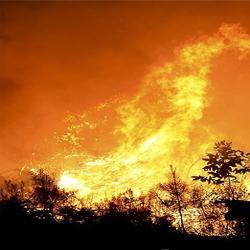fire: (129, 127, 184, 181), (162, 67, 205, 119), (54, 166, 98, 199)
